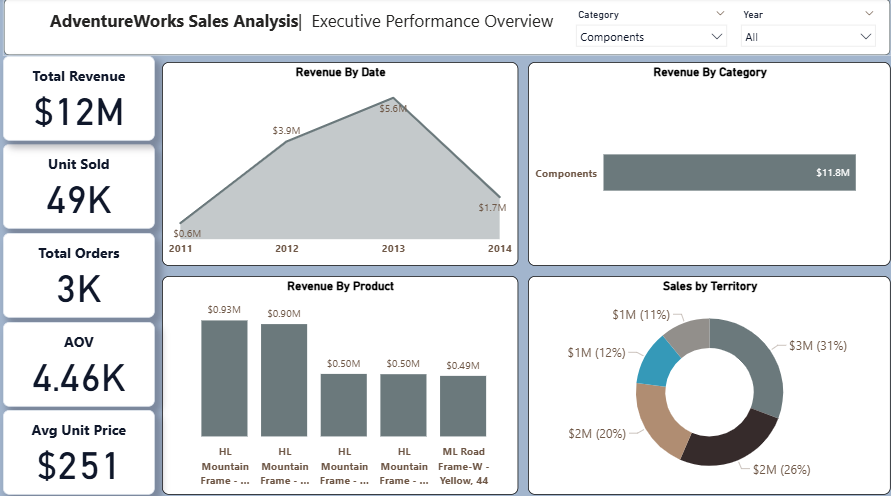

The page's visual inventory and layout, read from the dashboard file:
{"tool":"powerbi","page":{"name":"Page 1","canvas":[1280,720],"ordinal":0},"visuals":[{"type":"shape","box":[9.9,0,1258.6,82.2],"z":0},{"type":"textbox","box":[35.4,9.9,795.1,49.6],"z":1000},{"type":"slicer","fields":{"Values":["Fact_Sales.CategoryName"]},"box":[812.1,9.9,233.9,65.2],"z":2000},{"type":"slicer","fields":{"Values":["Fact_Sales.OrderDate.Variation.Date Hierarchy.Year"]},"box":[1046,9.9,211.2,65.2],"z":3000},{"type":"cardVisual","fields":{"Data":["Key Measures.Unit Sold"]},"box":[9.9,207.5,215.4,120.5],"z":4000},{"type":"cardVisual","fields":{"Data":["Key Measures.Total Revenue"]},"box":[9.9,82.2,215.4,120],"z":5000},{"type":"cardVisual","fields":{"Data":["Key Measures.Total Orders"]},"box":[9.9,333.3,215.4,120],"z":6000},{"type":"areaChart","title":"Revenue By Date","fields":{"Category":["Fact_Sales.OrderDate.Variation.Date Hierarchy.Year","Fact_Sales.OrderDate.Variation.Date Hierarchy.Quarter","Fact_Sales.OrderDate.Variation.Date Hierarchy.Month","Fact_Sales.OrderDate.Variation.Date Hierarchy.Day"],"Y":["Key Measures.Total Revenue"]},"box":[235.3,90.7,504.6,289.1],"z":7000},{"type":"clusteredBarChart","title":"Revenue By Category","fields":{"Category":["Fact_Sales.CategoryName"],"Y":["Key Measures.Total Revenue"]},"box":[754,90.7,514.5,289.1],"z":8000},{"type":"clusteredColumnChart","title":"Revenue By Product","fields":{"Y":["Key Measures.Total Revenue"],"Category":["Fact_Sales.Productname"]},"box":[235.3,394,504.6,310.4],"z":9000},{"type":"cardVisual","fields":{"Data":["Key Measures.Average Order Value"]},"box":[9.9,458.6,215.4,120],"z":10000},{"type":"donutChart","title":"Sales by Territory","fields":{"Y":["Key Measures.Total Revenue"],"Category":["Fact_Sales.TerritoryID"]},"box":[754,394,514.5,310.4],"z":11000},{"type":"cardVisual","fields":{"Data":["Key Measures.Avg Unit Price"]},"box":[9.9,583.9,215.4,120.5],"z":12000}]}

Visuals, with their boxes in screenshot pixels (x1, y1, x2, y2), scaled from the page's 1280x720 canvas onto the 891x496 screenshot:
shape: (x1=7, y1=0, x2=883, y2=57)
textbox: (x1=25, y1=7, x2=578, y2=41)
slicer - Fact_Sales.CategoryName: (x1=565, y1=7, x2=728, y2=52)
slicer - Fact_Sales.OrderDate.Variation.Date Hierarchy.Year: (x1=728, y1=7, x2=875, y2=52)
cardVisual - Key Measures.Unit Sold: (x1=7, y1=143, x2=157, y2=226)
cardVisual - Key Measures.Total Revenue: (x1=7, y1=57, x2=157, y2=139)
cardVisual - Key Measures.Total Orders: (x1=7, y1=230, x2=157, y2=312)
"Revenue By Date" areaChart: (x1=164, y1=62, x2=515, y2=262)
"Revenue By Category" clusteredBarChart: (x1=525, y1=62, x2=883, y2=262)
"Revenue By Product" clusteredColumnChart: (x1=164, y1=271, x2=515, y2=485)
cardVisual - Key Measures.Average Order Value: (x1=7, y1=316, x2=157, y2=399)
"Sales by Territory" donutChart: (x1=525, y1=271, x2=883, y2=485)
cardVisual - Key Measures.Avg Unit Price: (x1=7, y1=402, x2=157, y2=485)
